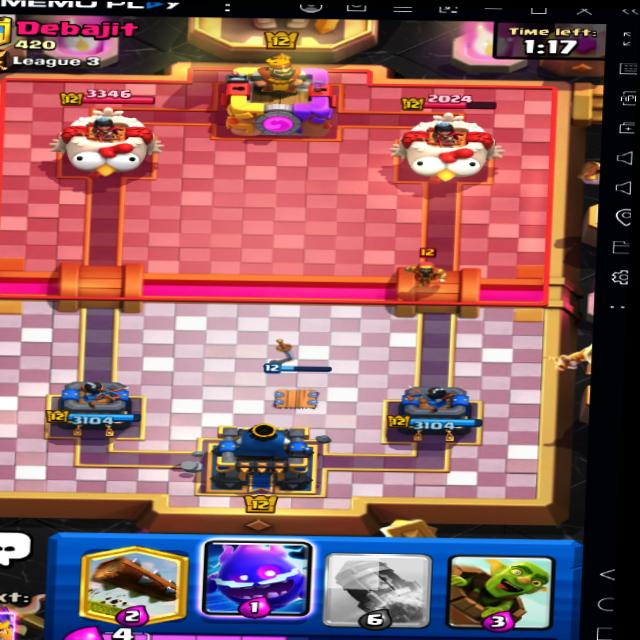Wizard: (383, 238, 458, 290)
